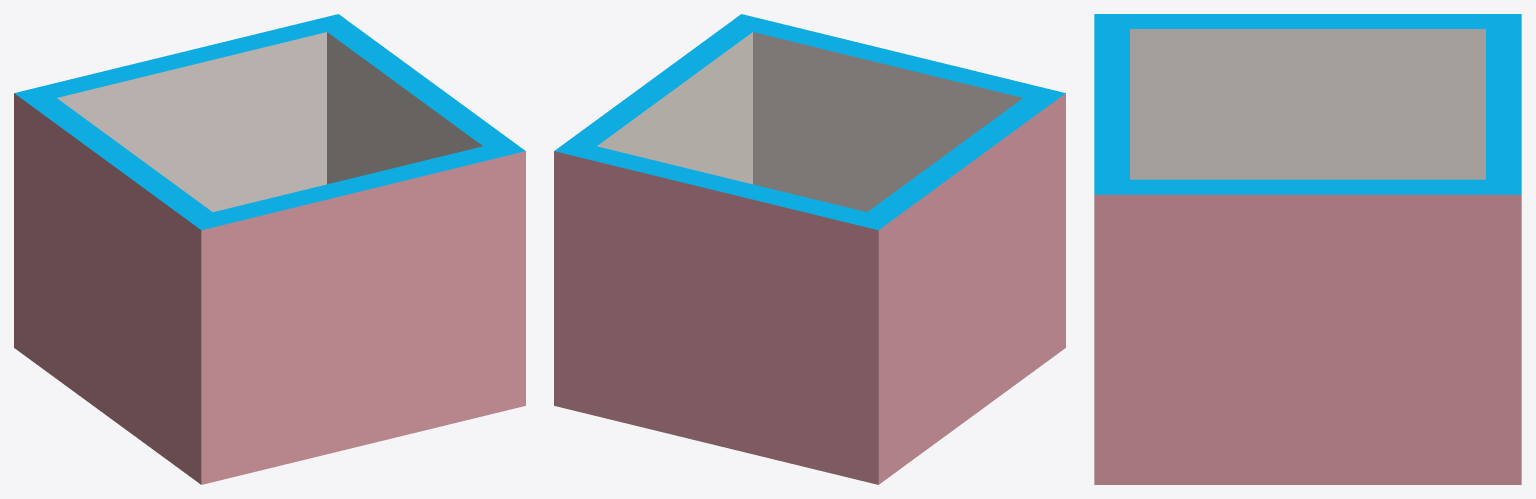
Rendered from present_box.fbx.
3 views of the same model, side by side, from view 1: azimuth 30°, elevation 25°; view 2: azimuth 150°, elevation 25°; view 3: azimuth 270°, elevation 25° (orthographic). The views are drawn at different scales.
Visible parts, largest first — view 1: Model; view 2: Model; view 3: Model.
Boxes of the visible parts, x1=… form: Model: x1=14, y1=14, x2=525, y2=484; Model: x1=554, y1=14, x2=1065, y2=484; Model: x1=1094, y1=14, x2=1521, y2=484.
Bounding box in the file's own units: 12 × 9 × 12.
